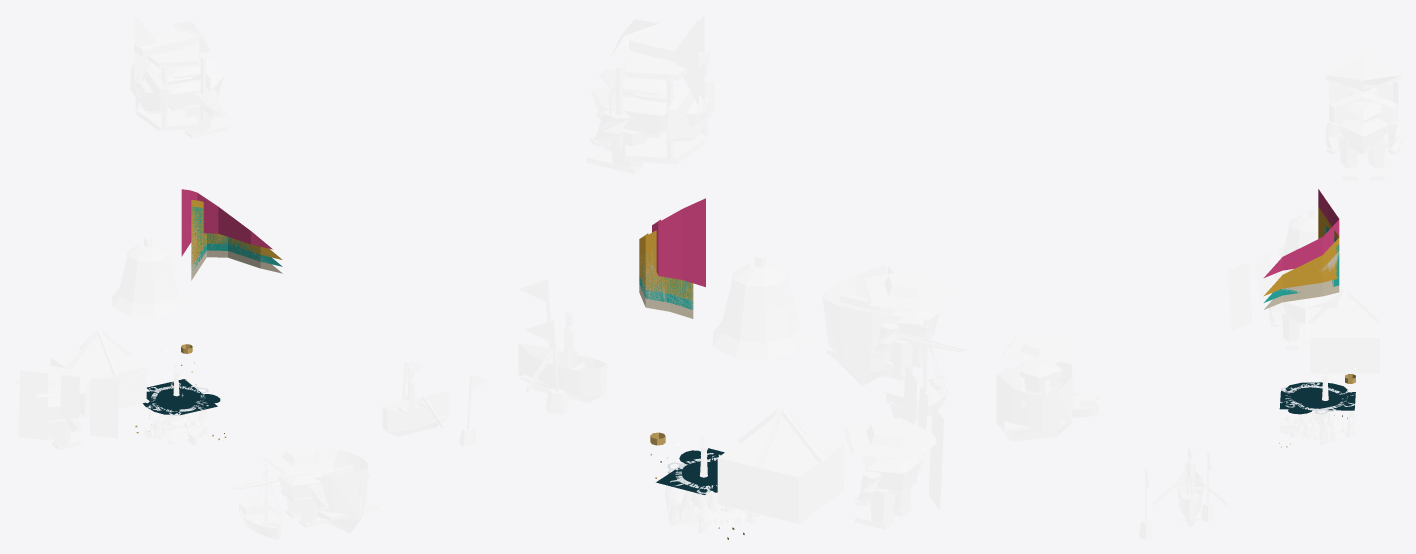
The model's file is ile-phare-v5-leger.glb.
3 views of the same model, side by side, from view 1: azimuth 30°, elevation 25°; view 2: azimuth 150°, elevation 25°; view 3: azimuth 270°, elevation 25° (orthographic). The views are drawn at different scales.
Parts seen in each view (by area): view 1: ile_anime4.017, ile_anime2.023, ile_anime3.021, ile_anime1.023, ile_anime8.003, ile_anime6.003, ile_anime9.003, ile_anime11.002, ile_anime7.003, ile_banniere0.011, ile_anime0.023, ile_libre0.021 (+6 smaller); view 2: ile_anime3.021, ile_anime2.023, ile_anime7.003, ile_anime1.023, ile_anime8.003, ile_anime6.003, ile_anime9.003, ile_anime11.002, ile_banniere0.011, ile_anime0.023, ile_corps.023, ile_anime5.013 (+6 smaller); view 3: ile_anime3.021, ile_anime6.003, ile_anime9.003, ile_anime8.003, ile_anime1.023, ile_anime4.017, ile_corps.023, ile_libre0.021, ile_banniere1.009, ile_anime11.002, ile_anime7.003, ile_anime0.023 (+5 smaller).
Part boxes in pixels (x1,y1,x2,y2): ile_anime4.017: (19,370,118,439); ile_anime2.023: (112,237,185,317); ile_anime3.021: (50,328,149,417); ile_anime1.023: (130,33,210,131); ile_anime8.003: (262,443,337,527); ile_anime6.003: (314,447,378,533); ile_anime9.003: (157,58,228,138); ile_anime11.002: (382,366,449,436); ile_anime7.003: (15,365,90,450); ile_banniere0.011: (181,189,272,256); ile_anime0.023: (134,14,210,83); ile_libre0.021: (143,379,220,416); ile_anime3.021: (717,407,848,523); ile_anime2.023: (712,253,809,360); ile_anime7.003: (843,417,936,529); ile_anime1.023: (609,36,714,164); ile_anime8.003: (861,269,960,380); ile_anime6.003: (822,265,904,386); ile_anime9.003: (586,68,679,173); ile_anime11.002: (518,310,606,403); ile_banniere0.011: (652,198,705,286); ile_anime0.023: (610,14,710,106); ile_corps.023: (664,435,759,533); ile_anime5.013: (883,318,967,420); ile_anime3.021: (1305,288,1381,373); ile_anime6.003: (996,362,1072,441); ile_anime9.003: (1325,90,1401,180); ile_anime8.003: (1001,335,1076,394); ile_anime1.023: (1325,59,1401,154); ile_anime4.017: (1227,246,1284,331); ile_corps.023: (1279,368,1355,444); ile_libre0.021: (1279,382,1355,414); ile_banniere1.009: (1263,207,1339,296); ile_anime11.002: (1152,446,1228,527); ile_anime7.003: (1267,278,1342,350); ile_anime0.023: (1326,44,1400,91).
Size of the model in its own units: 12.24 by 11.9 by 10.64.
